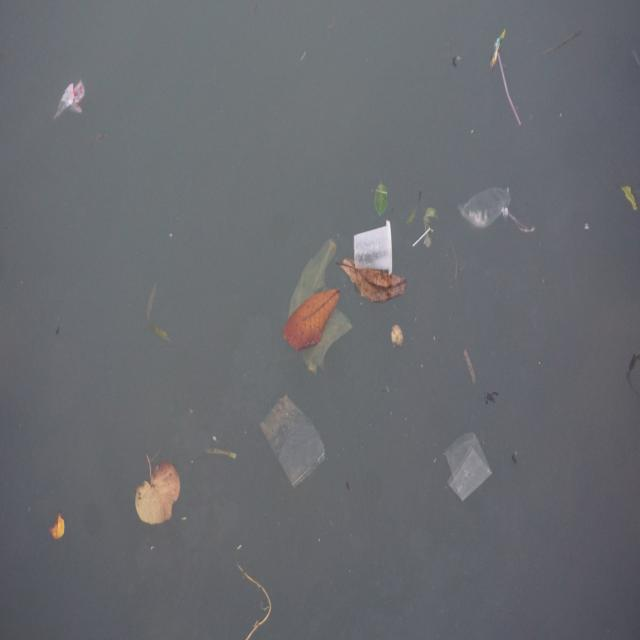Bungkus Makanan: (49, 69, 90, 124)
Bungkus Minuman: (286, 232, 352, 377), (257, 388, 330, 492), (435, 430, 493, 508), (459, 178, 520, 234), (352, 223, 397, 277)
